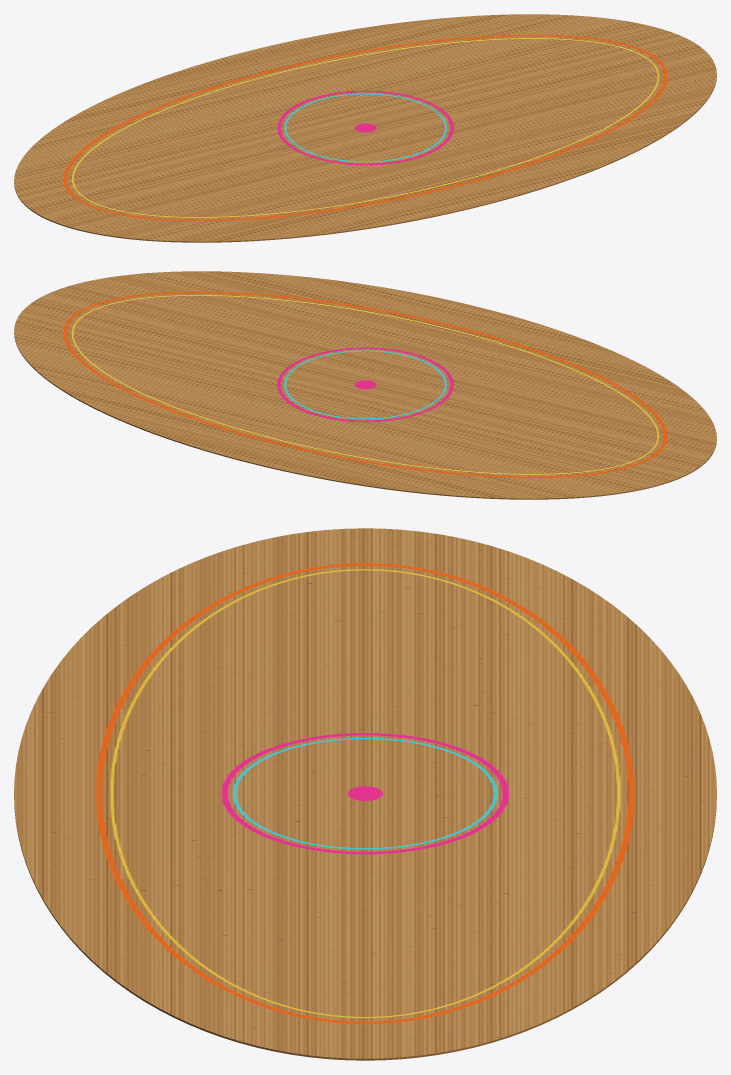
The model's file is RinkFloor.obj.
3 renders of one model, top to bottom at view 1: azimuth 30°, elevation 25°; view 2: azimuth 150°, elevation 25°; view 3: azimuth 270°, elevation 25°, orthographic. The views are drawn at different scales.
Visible parts, largest first — view 1: RinkFloor; view 2: RinkFloor; view 3: RinkFloor.
Boxes of the visible parts, left/top/right/bottom form: RinkFloor: left=14, top=14, right=716, bottom=242; RinkFloor: left=14, top=271, right=716, bottom=499; RinkFloor: left=14, top=528, right=716, bottom=1060.
Bounding box in the file's own units: 25 × 0.04 × 14.
2 materials, 2 textured.
